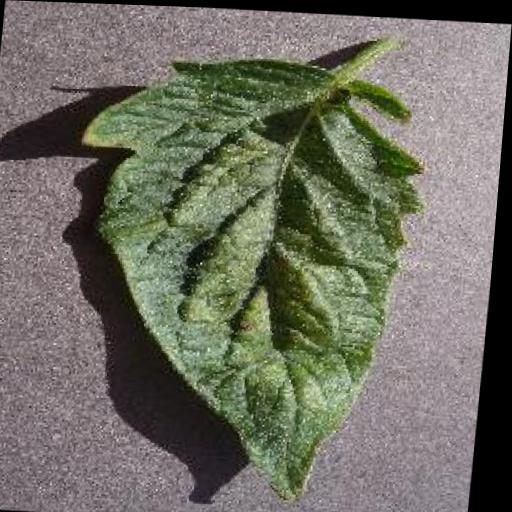Spider Mites: (52, 46, 438, 506)
